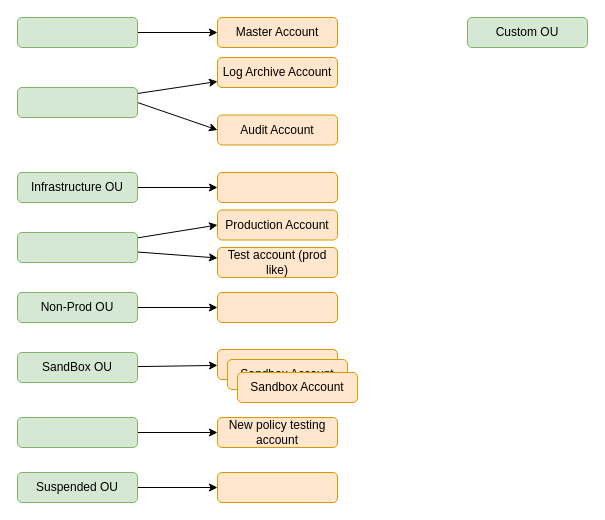
This 605x520 diagram has some shape labels left out. The box of each missing label's shape, as (x1, y1, x2, y2) in pixels:
Core OU: (16, 86, 138, 118)
Dev Account: (216, 292, 338, 322)
Network Account: (216, 172, 338, 202)
Policy Staging OU: (16, 416, 138, 448)
Production OU: (16, 232, 138, 262)
Root OU: (16, 16, 138, 48)
Suspended accounts: (216, 472, 338, 502)
